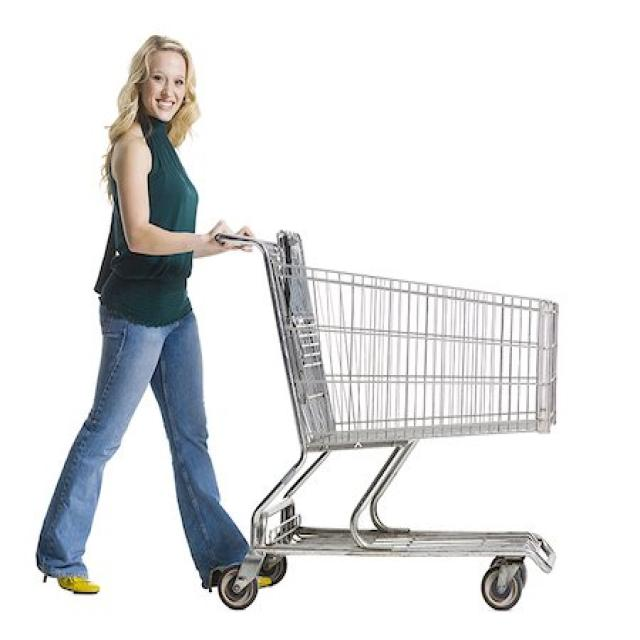Person: (35, 36, 270, 595)
